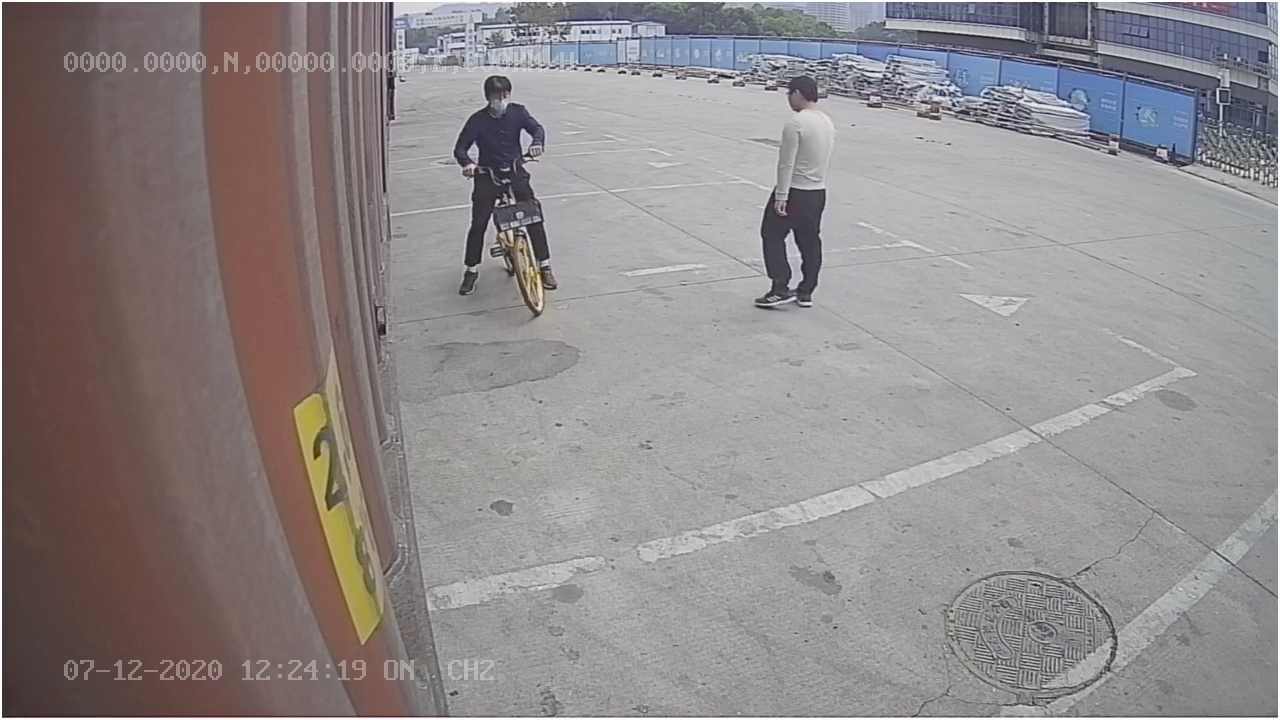person: (748, 73, 838, 317)
